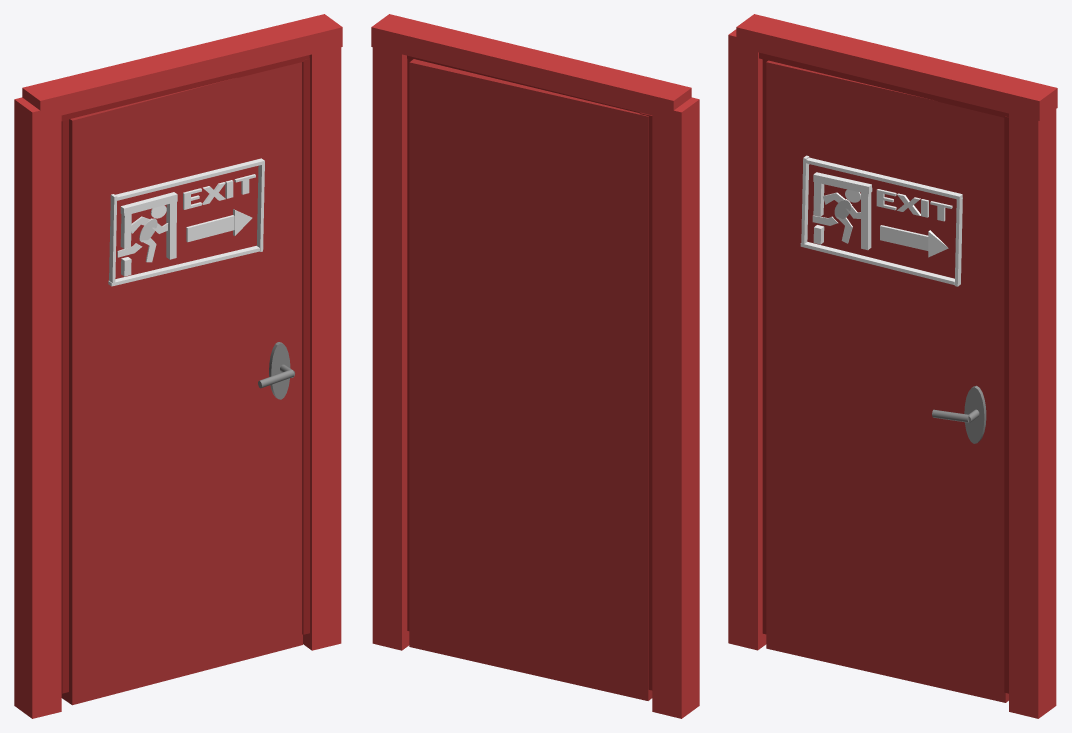
File: exit_door_red.glb
3 renders of one model, left to right at view 1: azimuth 30°, elevation 25°; view 2: azimuth 150°, elevation 25°; view 3: azimuth 330°, elevation 25°, orthographic.
Visible parts, largest first — view 1: Object_2, Object_7, Object_5, Object_4, Object_3; view 2: Object_2, Object_7, Object_5; view 3: Object_2, Object_7, Object_4, Object_5, Object_3.
Boxes of the visible parts, x1=… form: Object_2: x1=61, y1=62, x2=302, y2=705; Object_7: x1=14, y1=14, x2=342, y2=718; Object_5: x1=61, y1=55, x2=309, y2=693; Object_4: x1=108, y1=158, x2=264, y2=286; Object_3: x1=269, y1=342, x2=290, y2=399; Object_2: x1=409, y1=59, x2=652, y2=700; Object_7: x1=371, y1=14, x2=699, y2=718; Object_5: x1=407, y1=55, x2=652, y2=690; Object_2: x1=766, y1=60, x2=1008, y2=702; Object_7: x1=728, y1=14, x2=1057, y2=718; Object_4: x1=800, y1=155, x2=962, y2=286; Object_5: x1=759, y1=52, x2=1008, y2=693; Object_3: x1=964, y1=385, x2=986, y2=443.
Bounding box in the file's own units: 1.21 × 2.29 × 0.2108.
